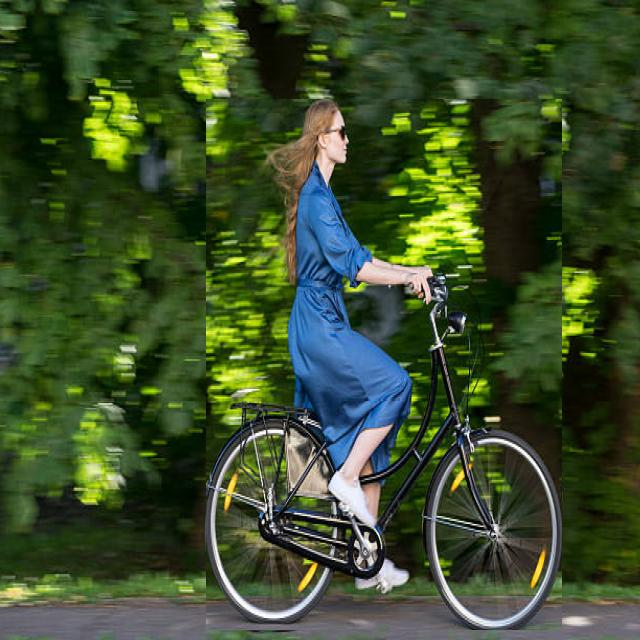bicycle: (206, 100, 561, 630)
